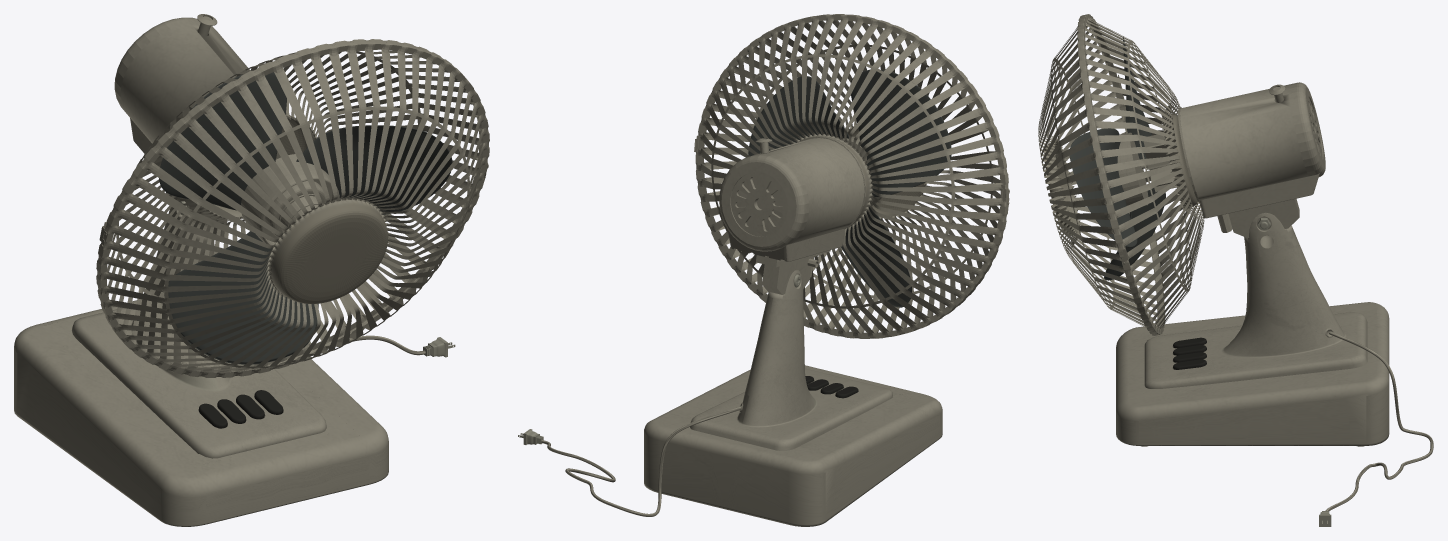
Rendered from desk_fan_b.glb.
3 renders of one model, left to right at view 1: azimuth 30°, elevation 25°; view 2: azimuth 150°, elevation 25°; view 3: azimuth 270°, elevation 25°, orthographic. The views are drawn at different scales.
Visible parts, largest first — view 1: Final; view 2: Final; view 3: Final.
Boxes of the visible parts, x1=… form: Final: x1=14, y1=14, x2=489, y2=526; Final: x1=518, y1=14, x2=1009, y2=526; Final: x1=1038, y1=14, x2=1433, y2=526.
Bounding box in the file's own units: 0.4144 × 0.4 × 0.3709.
1 material, 1 textured.
